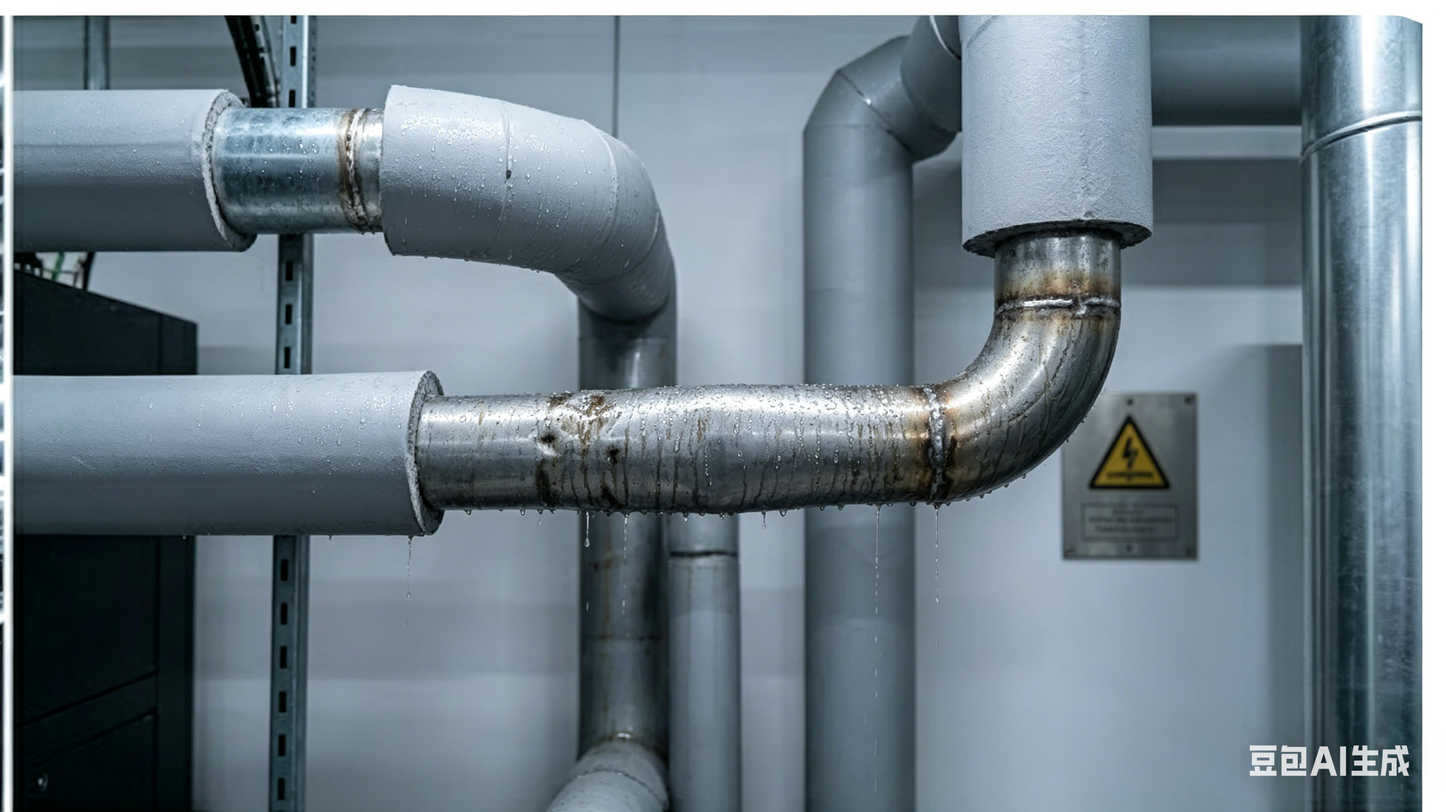Leakage: (522, 382, 640, 523)
